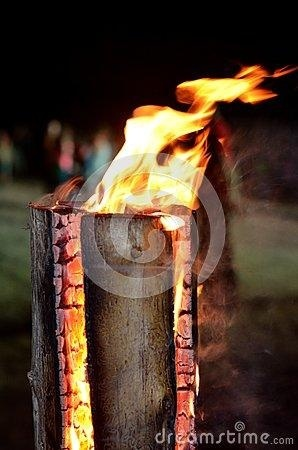fire: (87, 63, 280, 216), (58, 253, 93, 447)
